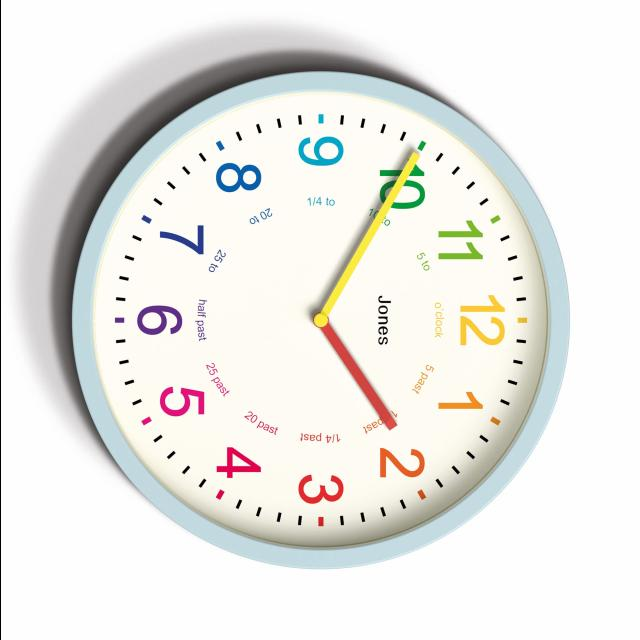clock: (155, 48, 603, 595)
